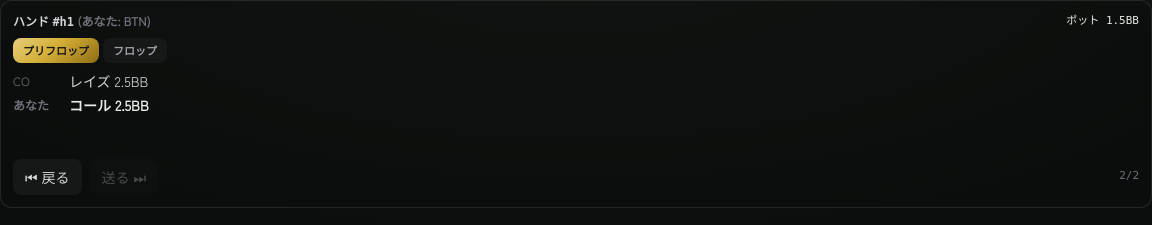
Scenario: HandReplay › steps backward through actions
Note: preflop は2アクション。1つ戻すと「コール 2.5BB」が消える
Click the button "⏮ 戻る": (47, 176) [13,158,82,194]
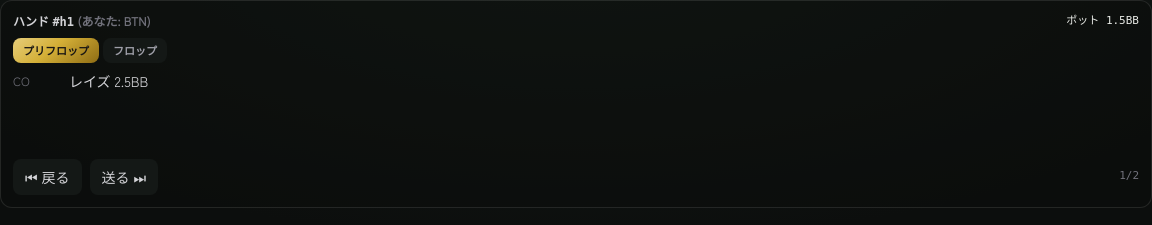
Expected: the text "コール 2.5BB" is gone
